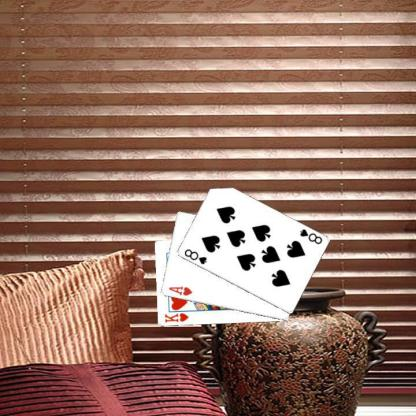8S: (181, 246, 208, 266), (297, 226, 324, 245)
AH: (166, 284, 193, 297)
KH: (162, 311, 190, 323)
